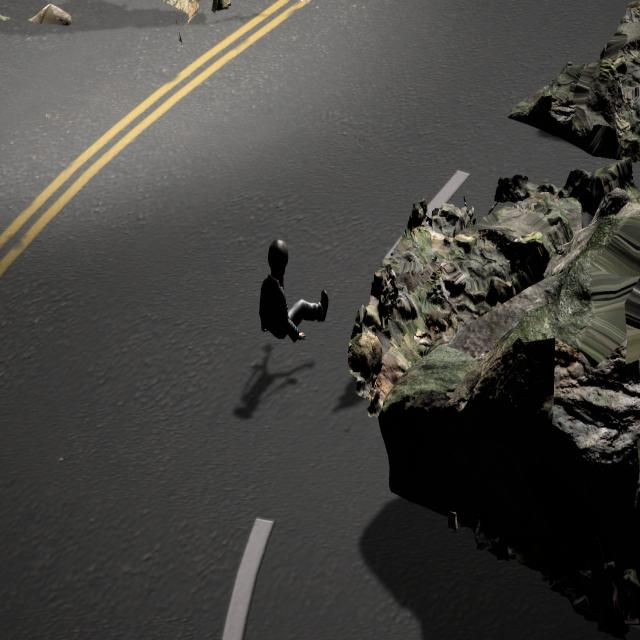Human: (252, 226, 332, 350)
